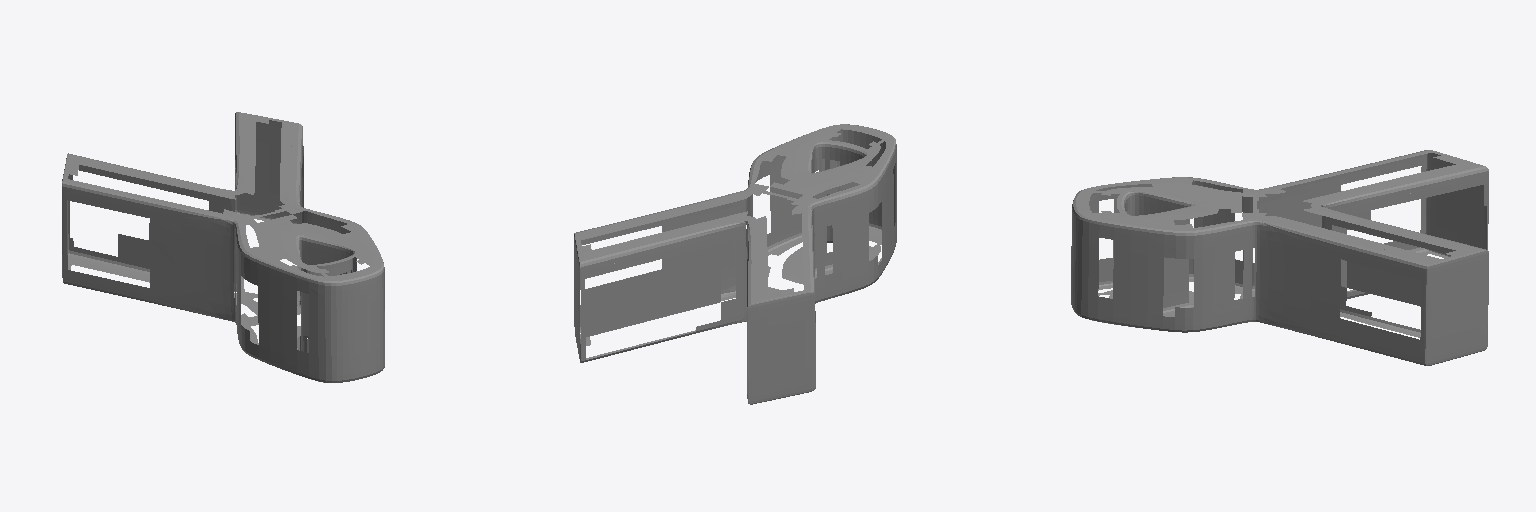
Rendered from ribbon2.obj.
3 views of the same model, side by side, from view 1: azimuth 30°, elevation 25°; view 2: azimuth 150°, elevation 25°; view 3: azimuth 270°, elevation 25° (orthographic).
Visible parts, largest first — view 1: Mesh1 Model; view 2: Mesh1 Model; view 3: Mesh1 Model.
Part boxes in pixels (x1,y1,x2,y2): Mesh1 Model: (62, 112, 384, 382); Mesh1 Model: (574, 124, 896, 404); Mesh1 Model: (1071, 150, 1488, 365).
Size of the model in its own units: 0.0167 by 0.007 by 0.0251.